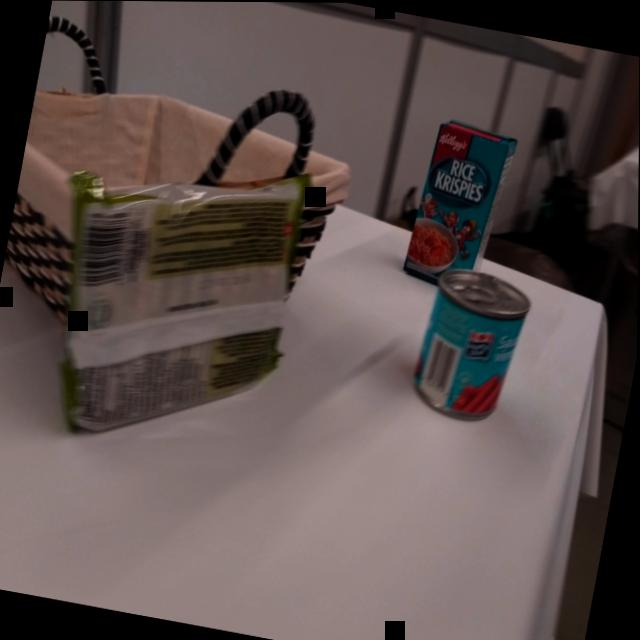cereal: (394, 107, 524, 306)
noodles: (22, 124, 319, 477)
sausages: (402, 258, 539, 436)
